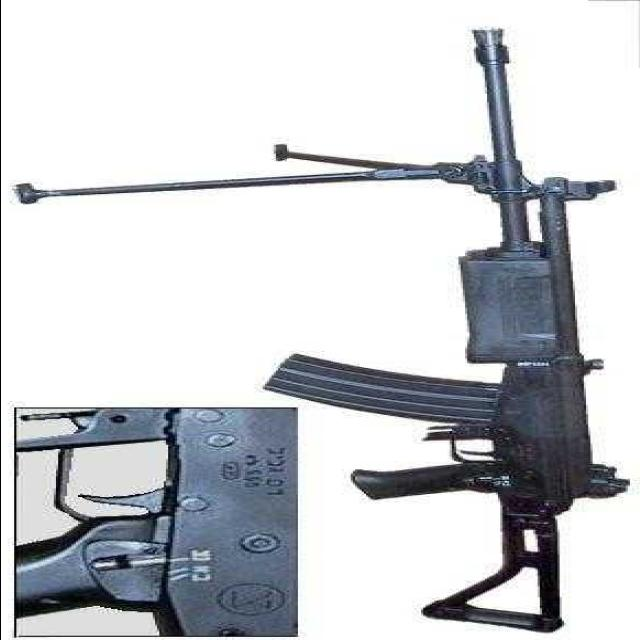heavyweapon: (250, 18, 622, 634), (1, 408, 300, 633)
